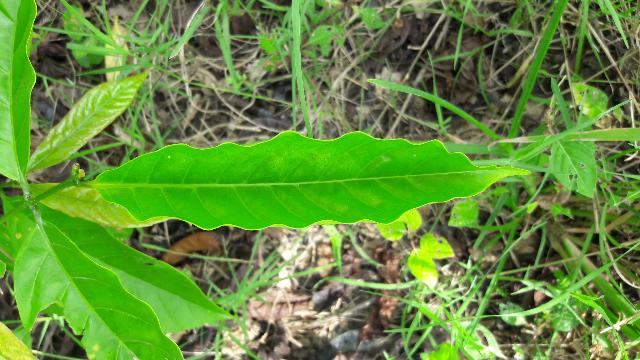healthy: (88, 132, 531, 231)
